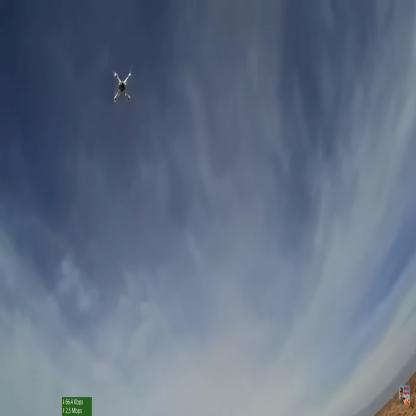drone: (104, 64, 141, 108)
